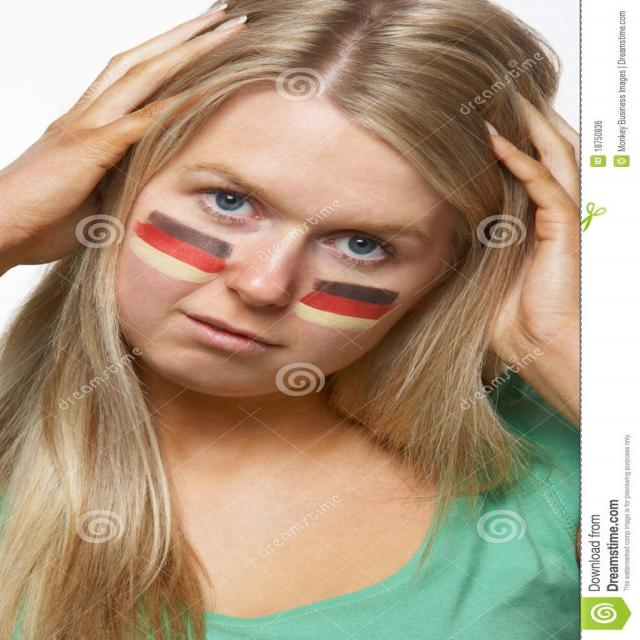nomask: (109, 91, 445, 396)
